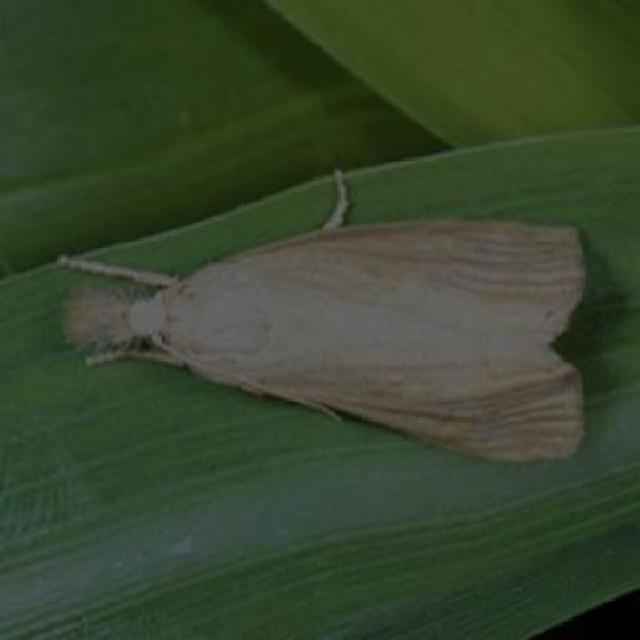stem-borer: (55, 165, 591, 469)
